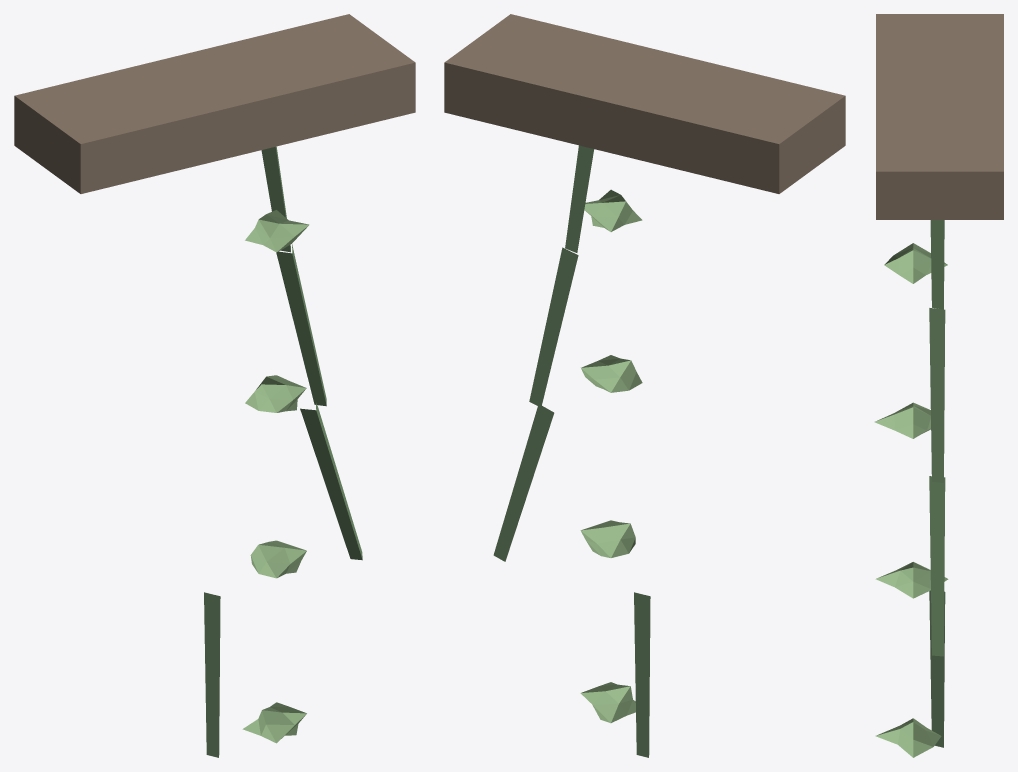
Rendered from vine_v07.glb.
The picture shows the model from 3 angles, left to right: view 1: azimuth 30°, elevation 25°; view 2: azimuth 150°, elevation 25°; view 3: azimuth 270°, elevation 25°; orthographic projection. The views are drawn at different scales.
Parts seen in each view (by area): view 1: lod0; view 2: lod0; view 3: lod0.
Part boxes in pixels (box(x1,y1,x2,y2)): lod0: box(14, 14, 415, 757); lod0: box(444, 14, 845, 757); lod0: box(874, 14, 1003, 757).
Size of what is drawn, in the model's own units: 0.7 by 1.35 by 0.2435.
